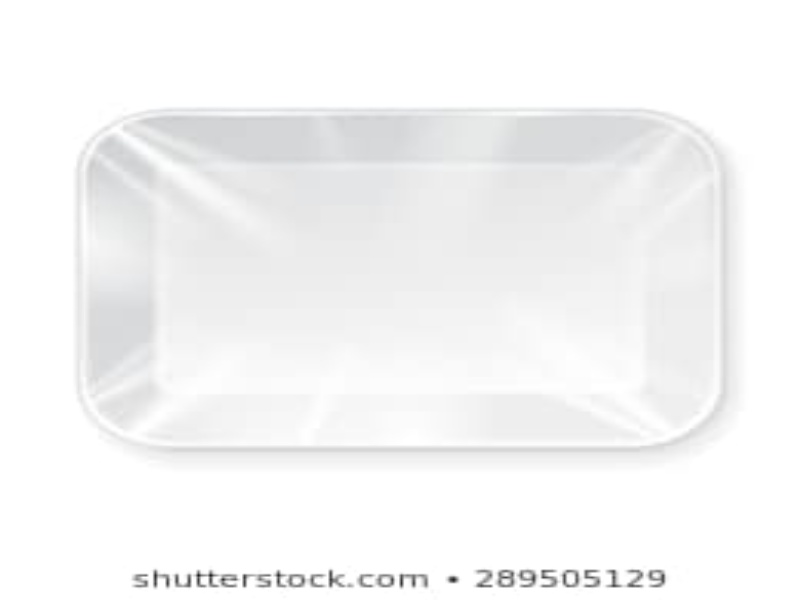plastic-tray: (67, 108, 737, 460)
